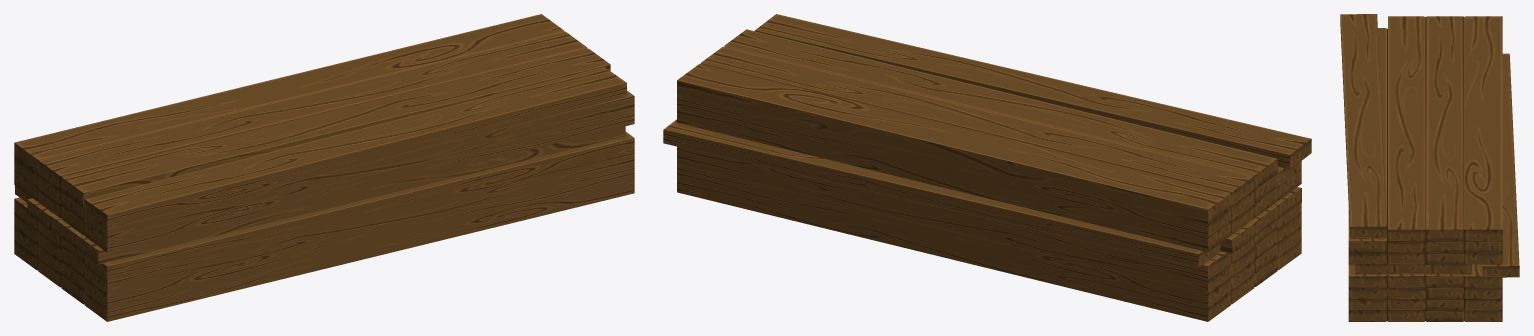
File: wood planks.glb
3 views of the same model, side by side, from view 1: azimuth 30°, elevation 25°; view 2: azimuth 150°, elevation 25°; view 3: azimuth 270°, elevation 25° (orthographic). The views are drawn at different scales.
Visible parts, largest first — view 1: WoodStack_LOD0; view 2: WoodStack_LOD0; view 3: WoodStack_LOD0.
Boxes of the visible parts, bbox=[...] form: WoodStack_LOD0: bbox=[14, 14, 634, 321]; WoodStack_LOD0: bbox=[663, 14, 1311, 321]; WoodStack_LOD0: bbox=[1340, 14, 1519, 321].
Size of the model in its own units: 4.21 by 0.8361 by 1.47.
Materials: 1 (1 with a texture image).
